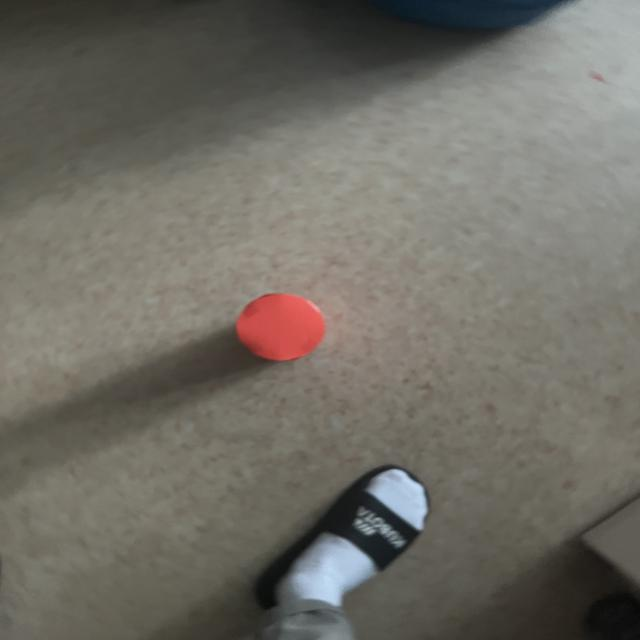przeszkoda: (236, 294, 325, 361)
